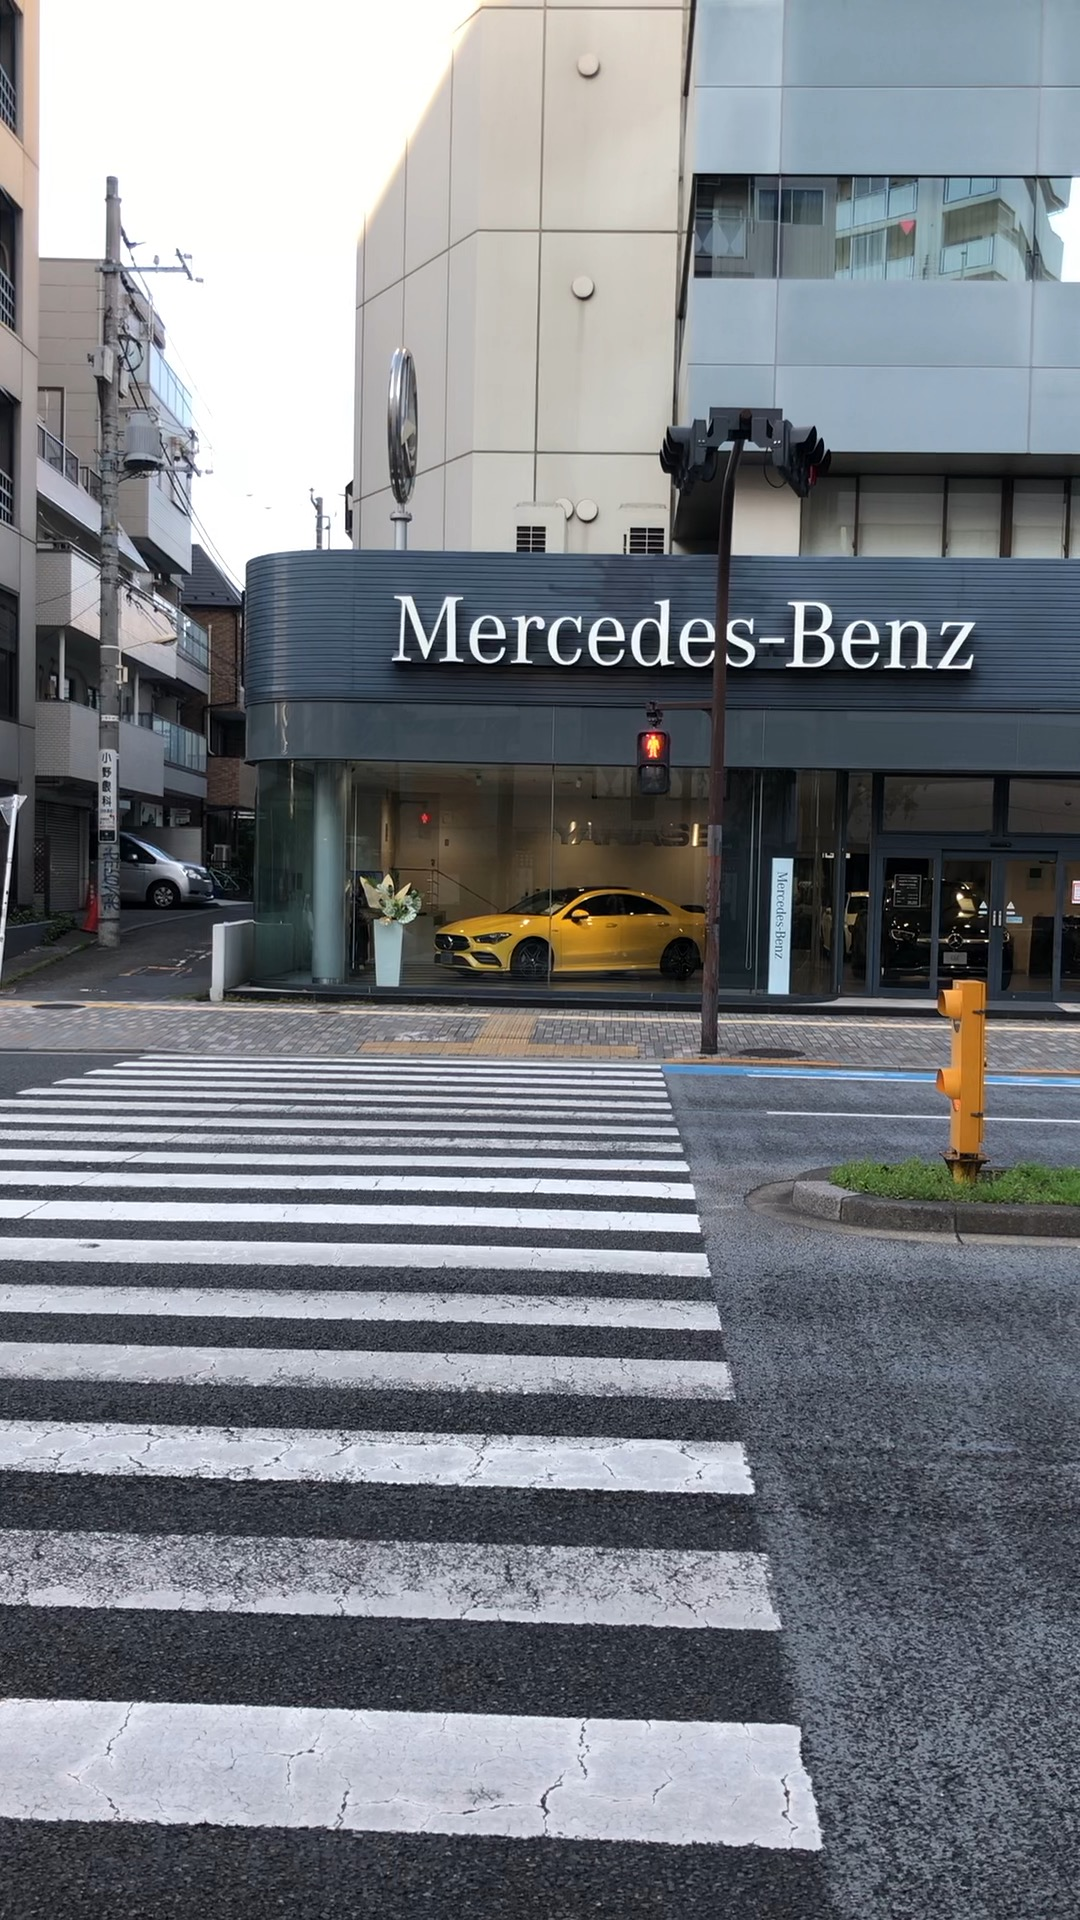red: (637, 729, 670, 799)
